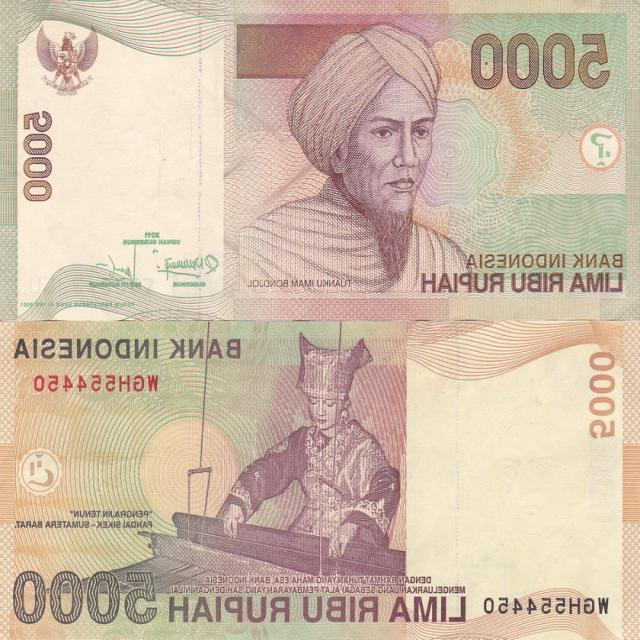lima ribu rupiah: (0, 311, 640, 640), (0, 0, 640, 321)
